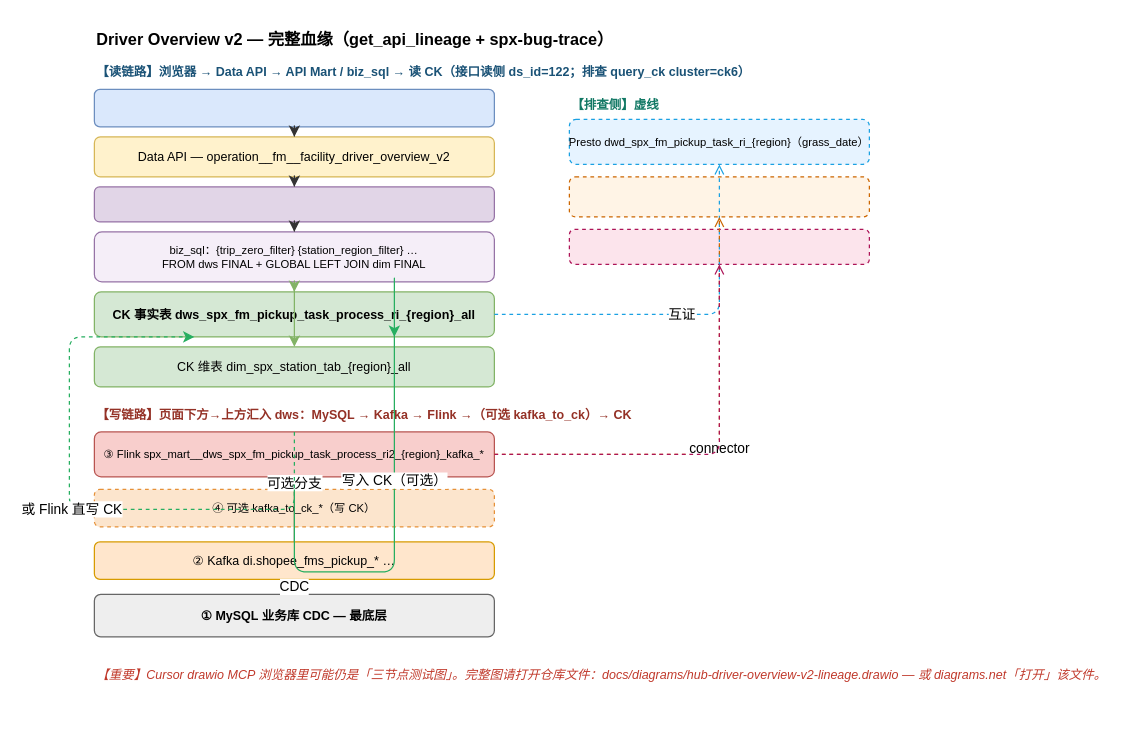
Image size: 1129x730. Some labels were removed from this diagram. Each missing label, with the box of its shape:
DataSuite API Mart（v_250917）: (93, 186, 494, 222)
GSheet 任务上下游（可选）: (568, 228, 869, 264)
Hive ods_flink_platform_connector_metadata_df: (568, 176, 869, 217)
浏览器 Hub / Driver Overview v2: (93, 88, 494, 127)
